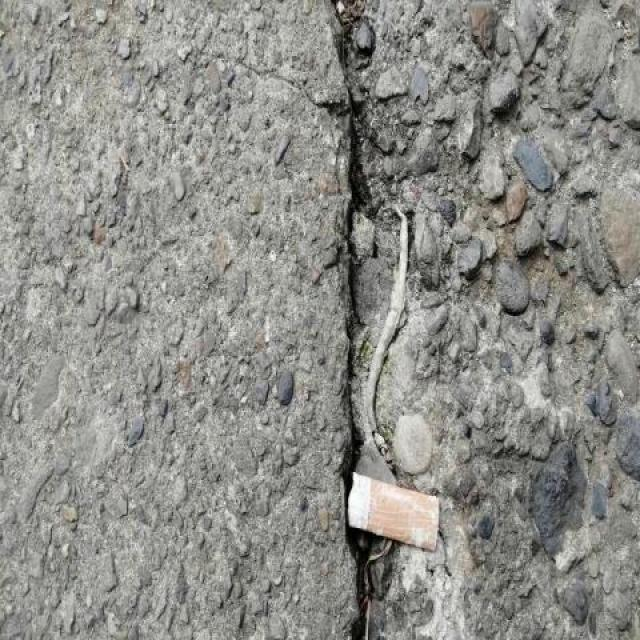non-organic waste: (341, 469, 443, 555)
